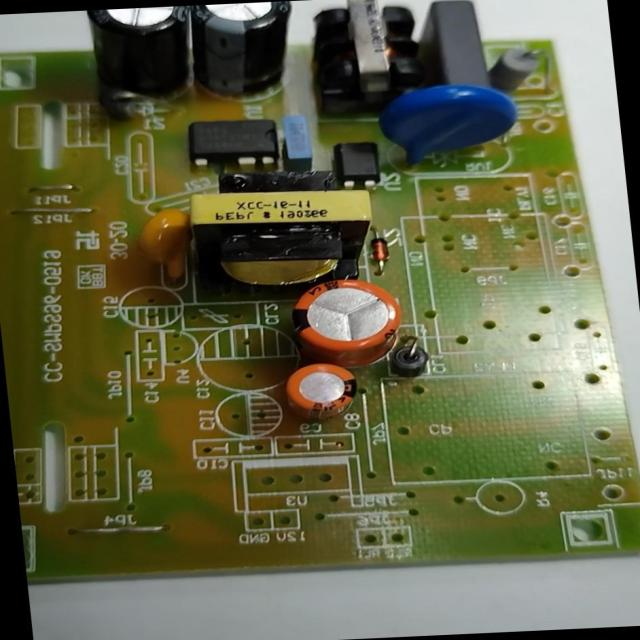Cap1: (280, 274, 409, 363)
Cap2: (273, 358, 372, 423)
Cap3: (78, 6, 208, 122)
Cap4: (174, 1, 300, 101)
MOSFET: (180, 110, 300, 177)
Mov: (349, 75, 540, 185)
Resistor: (476, 39, 556, 100)
Transformer: (170, 176, 383, 312), (302, 0, 432, 133)
